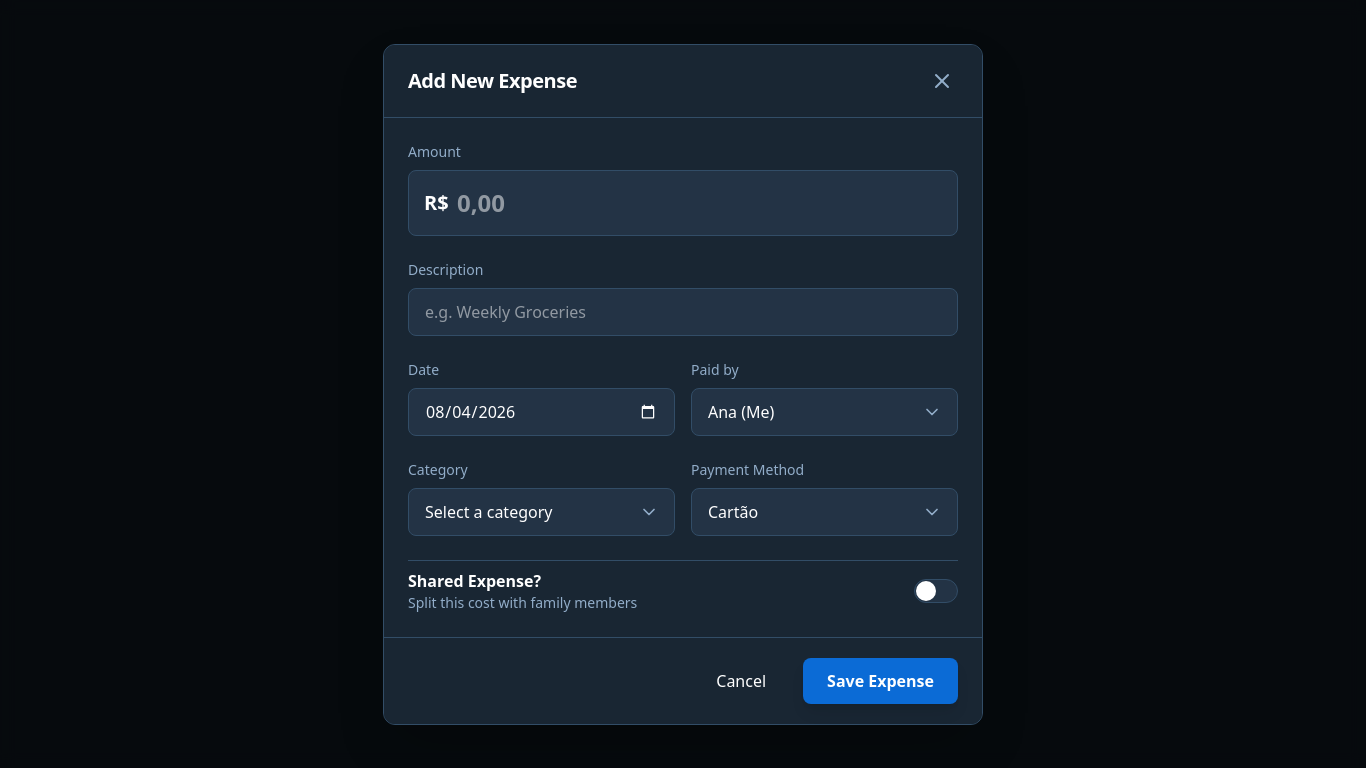
Scenario: ExpenseModal › ExpenseModal_SumNot100_ShowsInlineAlertAndBlocksSubmit
Step 1. Click the checkbox → (936,590), box [914,578,958,602]
(page scrolled)
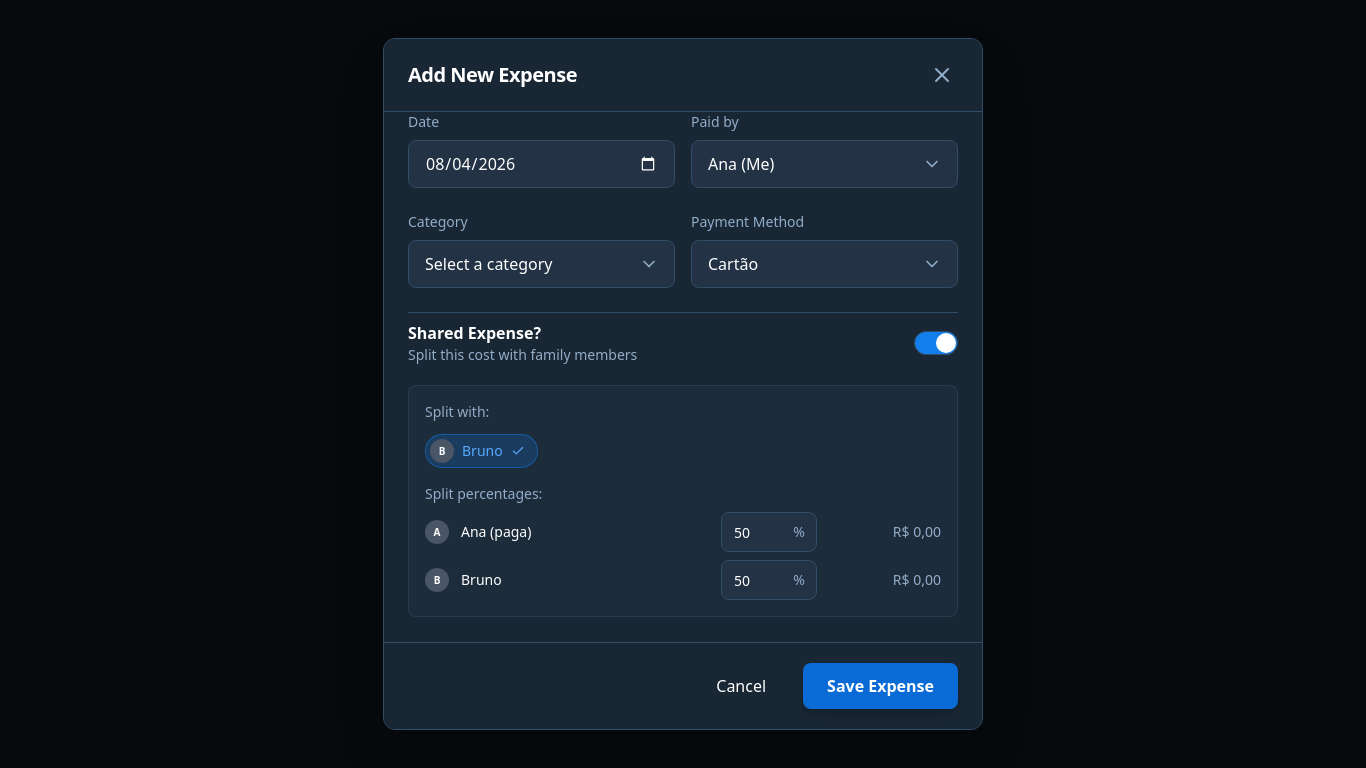
Step 2. Clear the number field named "Percentual de Ana" → (769,532), box [721,512,817,552]
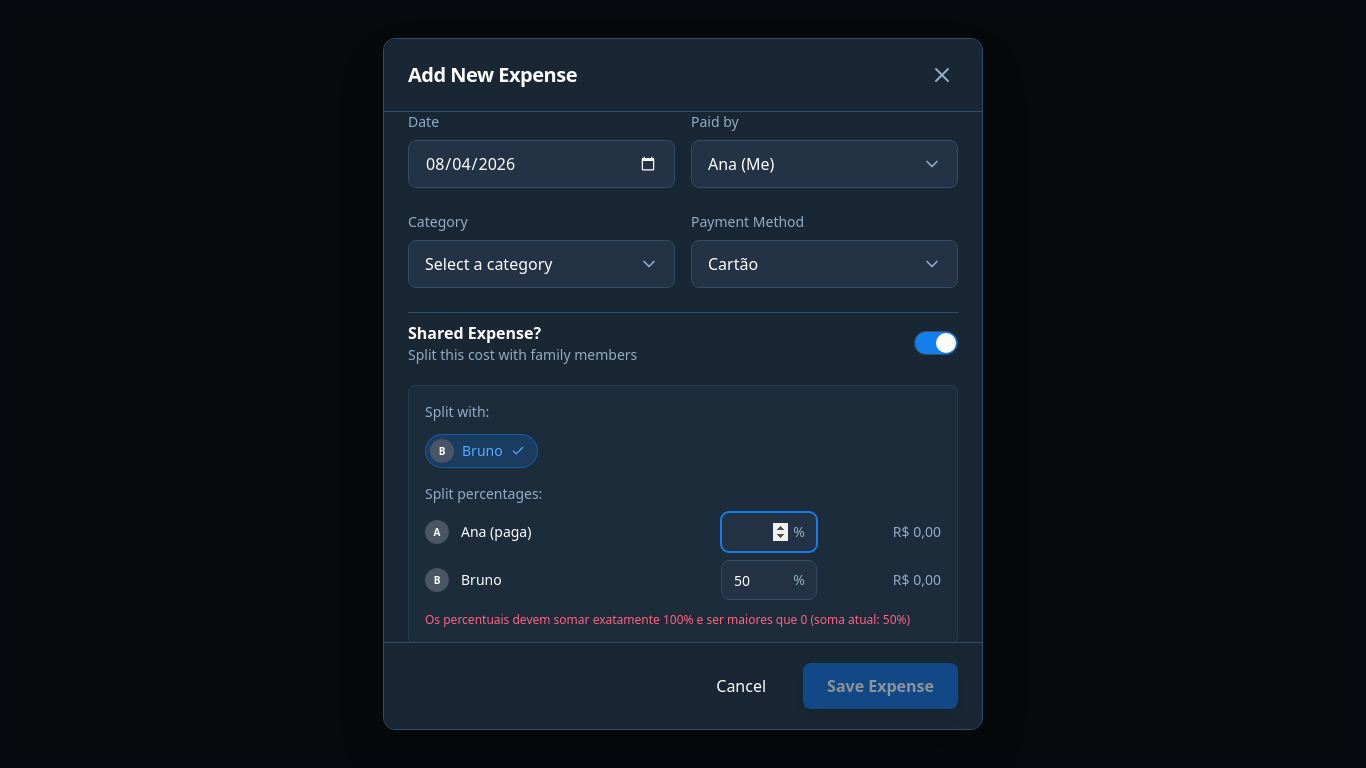
Check: the text "devem somar exatamente 100%" is shown, box [425,611,883,628]
Check: the button "Save Expense" is disabled, box [803,663,958,709]
